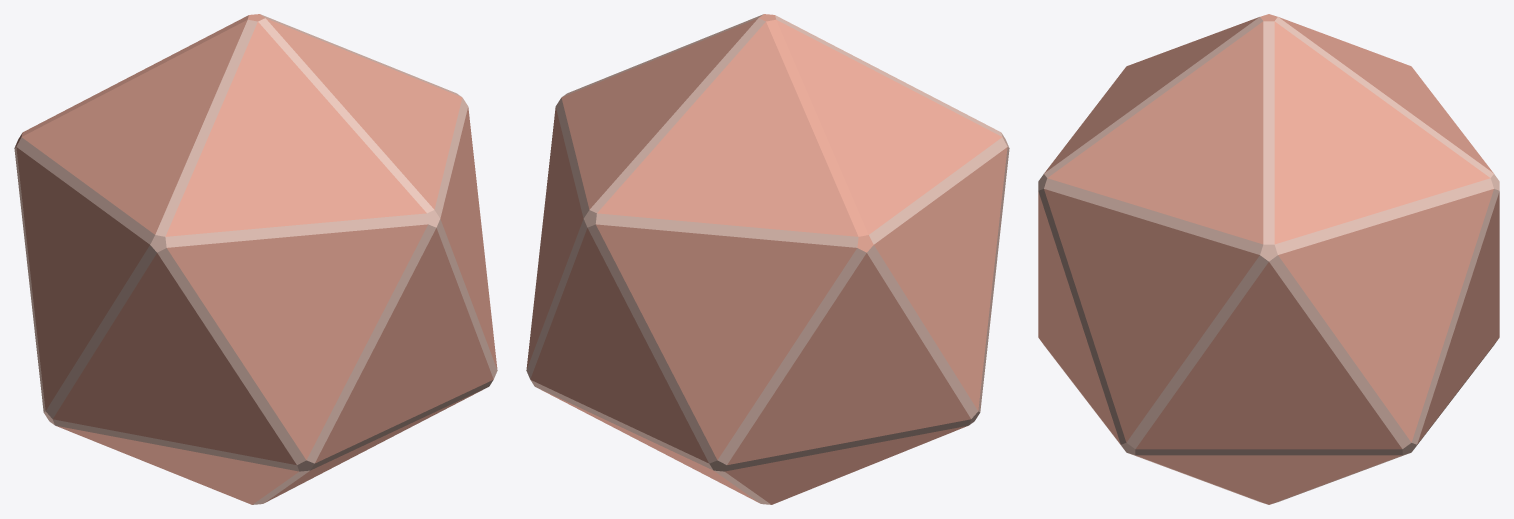
Rendered from EarthSpell.fbx.
3 views of the same model, side by side, from view 1: azimuth 30°, elevation 25°; view 2: azimuth 150°, elevation 25°; view 3: azimuth 270°, elevation 25° (orthographic).
Parts seen in each view (by area): view 1: Icosphere; view 2: Icosphere; view 3: Icosphere.
Boxes of the visible parts, x1,y1,x2,y2 form: Icosphere: (14, 14, 497, 504); Icosphere: (526, 14, 1009, 504); Icosphere: (1038, 14, 1499, 504).
Bounding box in the file's own units: 177 × 195 × 169.
